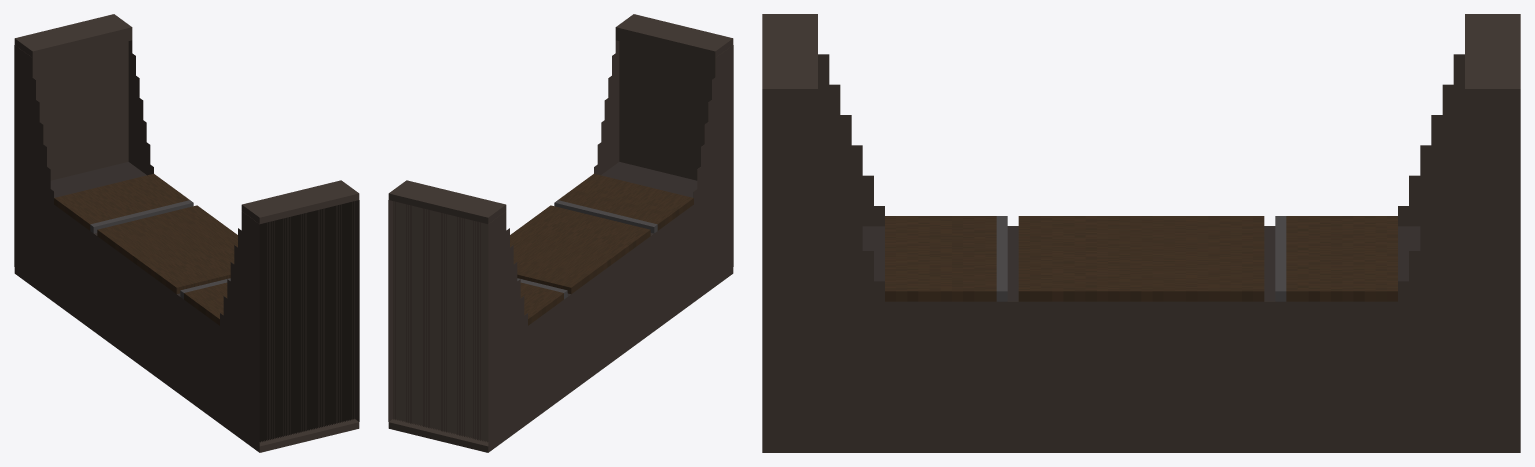
The model's file is turntable.obj.
The picture shows the model from 3 angles, left to right: view 1: azimuth 30°, elevation 25°; view 2: azimuth 150°, elevation 25°; view 3: azimuth 270°, elevation 25°; orthographic projection. The views are drawn at different scales.
Parts seen in each view (by area): view 1: RAIL_LEFT_RAIL_LEFT.005, RAIL_RIGHT.004; view 2: RAIL_LEFT_RAIL_LEFT.005, RAIL_LEFT.004; view 3: RAIL_LEFT_RAIL_LEFT.005, RAIL_RIGHT.004, RAIL_LEFT.004.
Boxes of the visible parts, left/top/right/bottom form: RAIL_LEFT_RAIL_LEFT.005: left=14, top=14, right=359, bottom=452; RAIL_RIGHT.004: left=90, top=200, right=193, bottom=233; RAIL_LEFT_RAIL_LEFT.005: left=388, top=14, right=733, bottom=452; RAIL_LEFT.004: left=554, top=200, right=657, bottom=233; RAIL_LEFT_RAIL_LEFT.005: left=762, top=14, right=1520, bottom=452; RAIL_RIGHT.004: left=1275, top=216, right=1286, bottom=301; RAIL_LEFT.004: left=996, top=216, right=1007, bottom=301.
Bounding box in the file's own units: 0.9996 × 2.25 × 4.25.
Materials: 1 (1 with a texture image).
